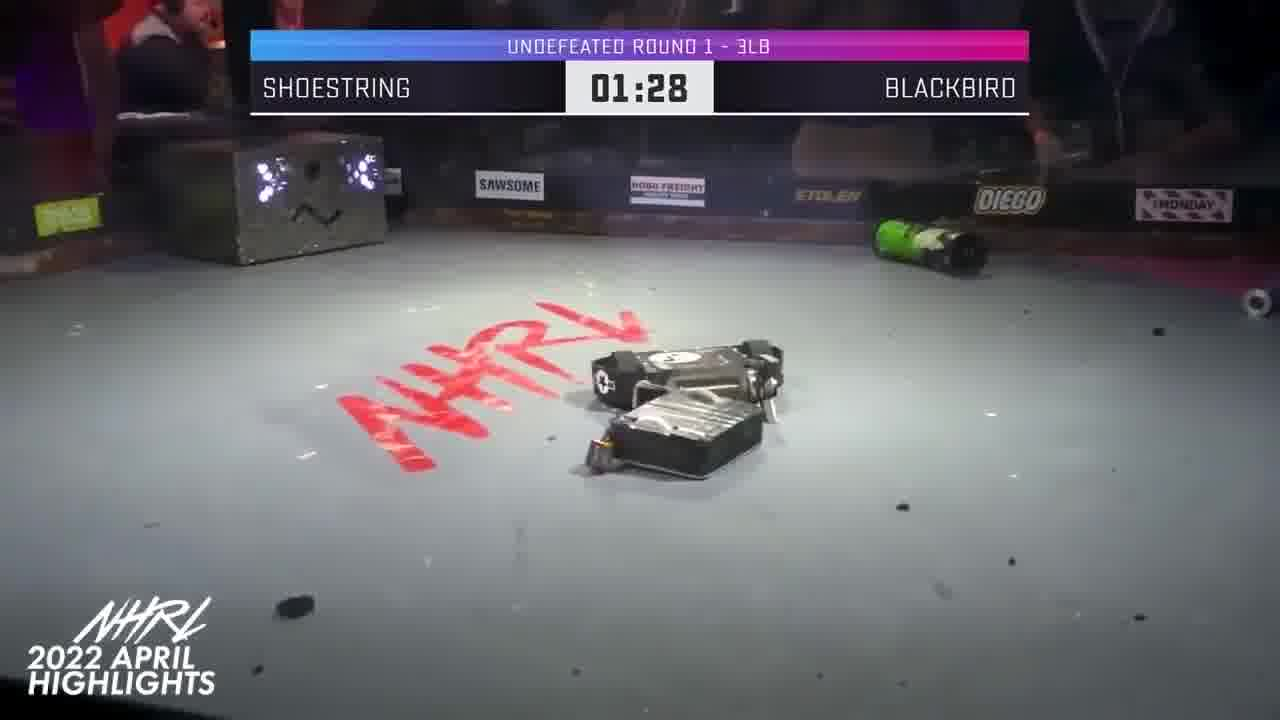combatbot: (585, 385, 770, 479), (590, 339, 783, 410)
debris: (1241, 284, 1280, 324), (271, 593, 318, 622)
housebot: (161, 136, 393, 267)
minibot: (873, 216, 994, 279)
